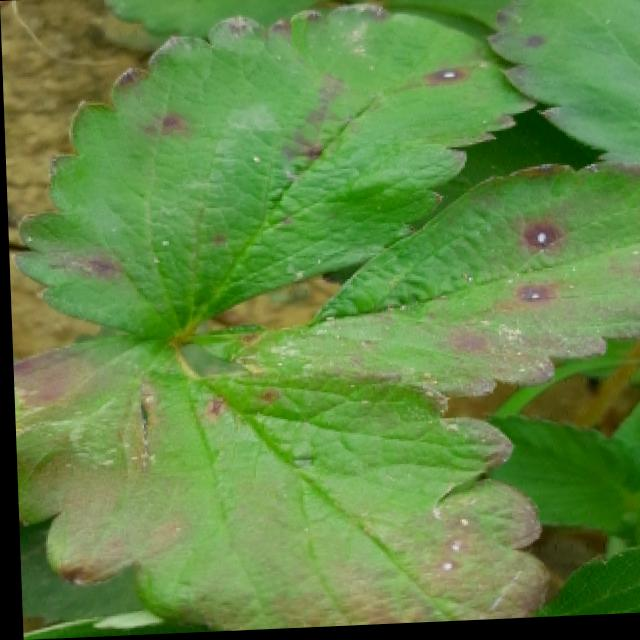Leaf Spot: (7, 4, 538, 345), (10, 325, 546, 633), (187, 163, 640, 400), (483, 0, 640, 168)
